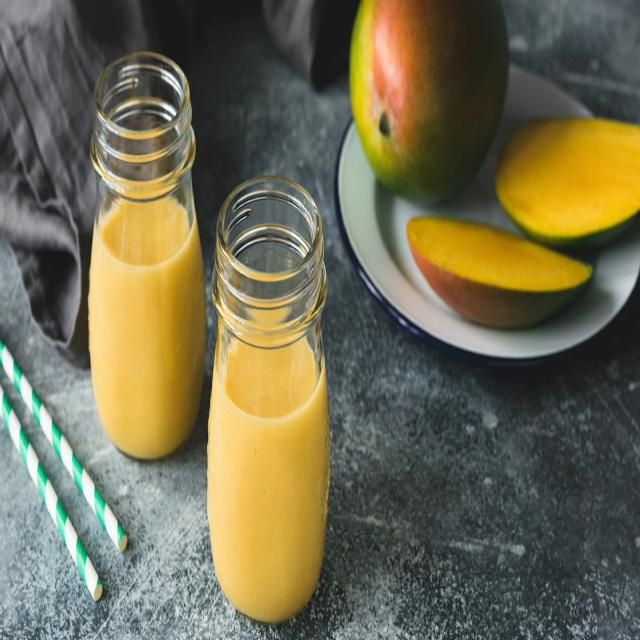mango: (348, 0, 511, 207)
